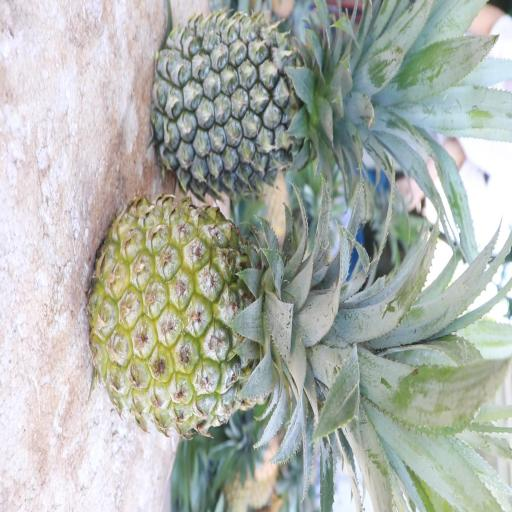------------------------------: (82, 191, 375, 443)
